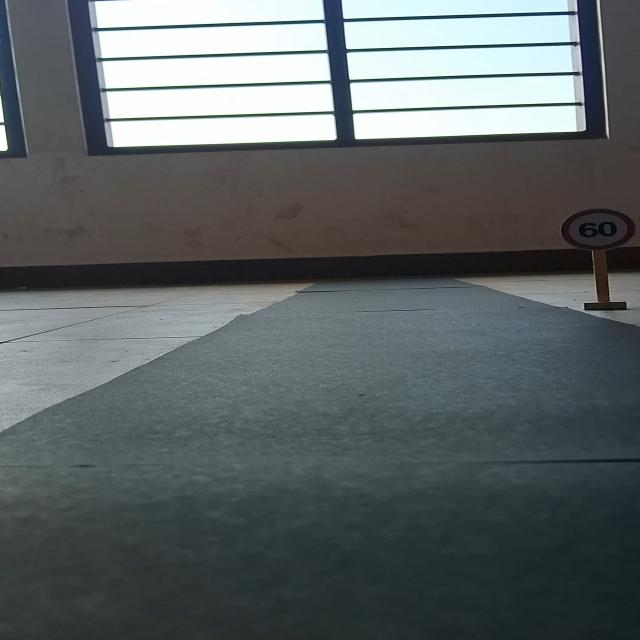Speed60: (561, 208, 639, 249)
